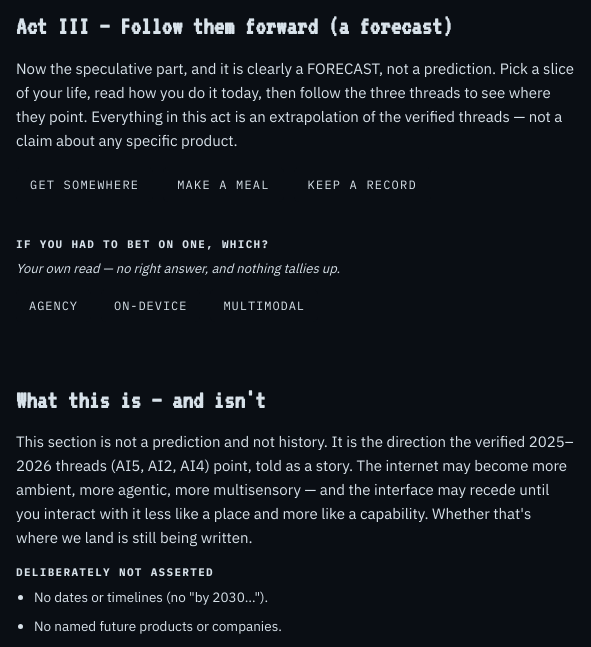
Test: FutureScene (Road Ahead story) › records the optional reflection as a personal lean, not a fact
The image size is (591, 647).
(page scrolled)
Click the button with aria-label "Bet: MULTIMODAL": (264, 305) x1=210 y1=289 x2=318 y2=322
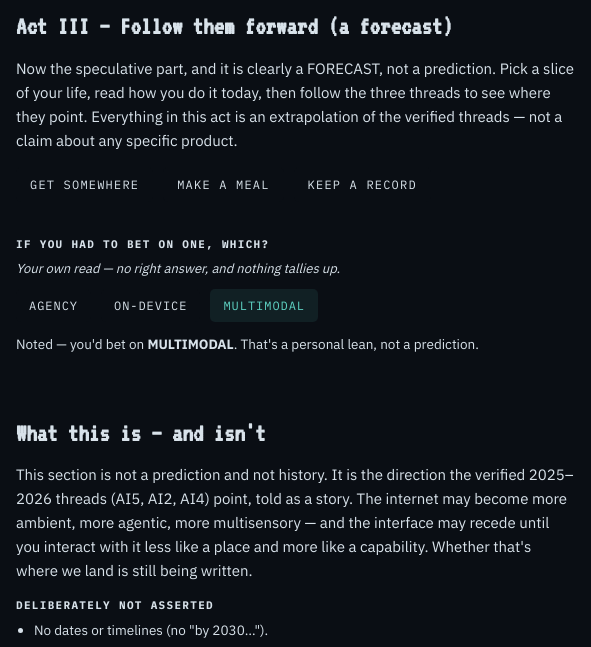
Expected: the text "a personal lean, not a prediction" is shown, x1=234 y1=335 x2=479 y2=353
